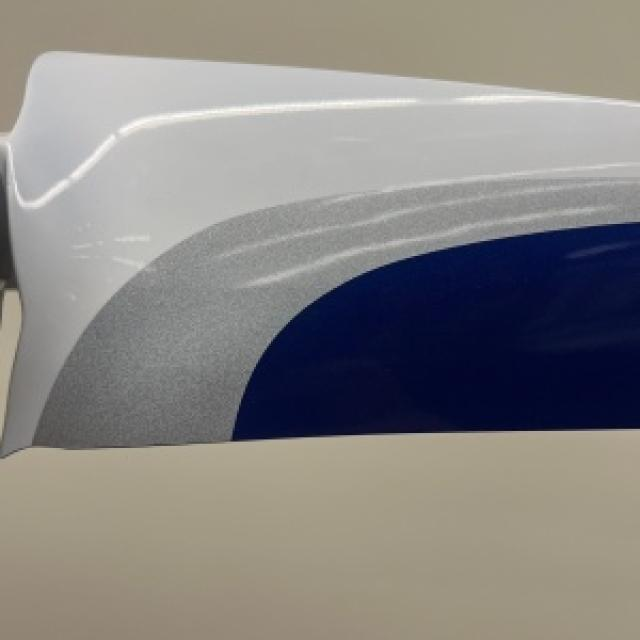healthy: (0, 51, 638, 452)
